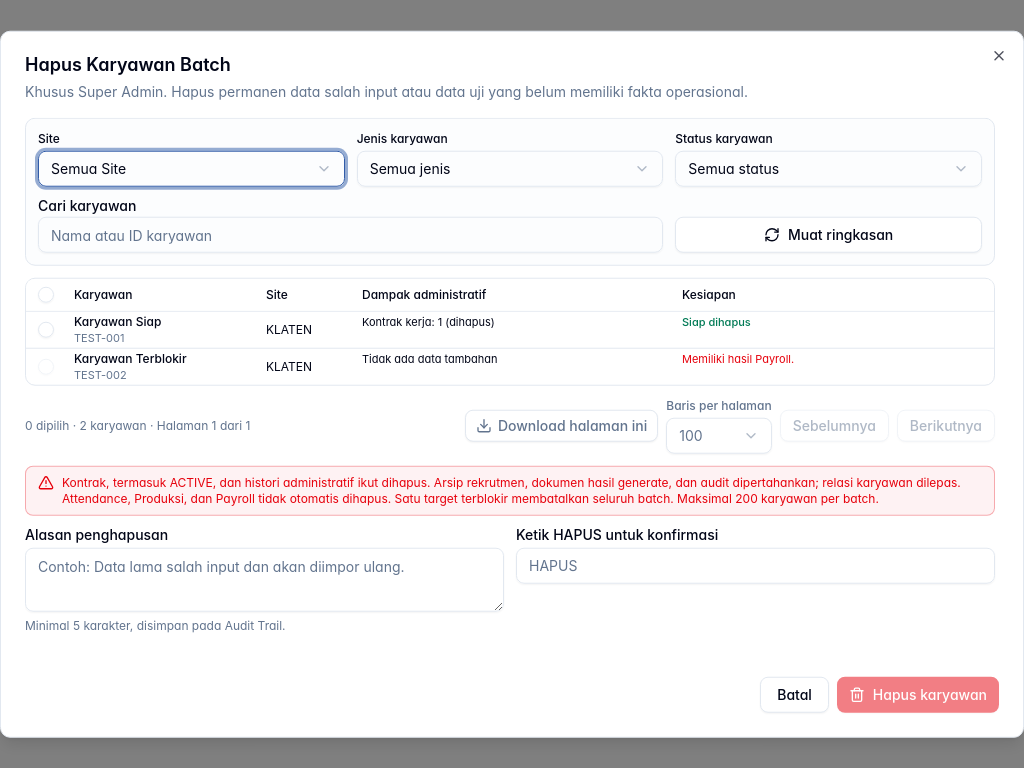
Test: EmployeeBatchDeleteDialog › hanya memilih karyawan siap, menampilkan blocker dan dampak administratif
Click the checkbox named "Pilih semua karyawan siap di halaman ini".
click(46, 295)  # box [38,287,54,303]
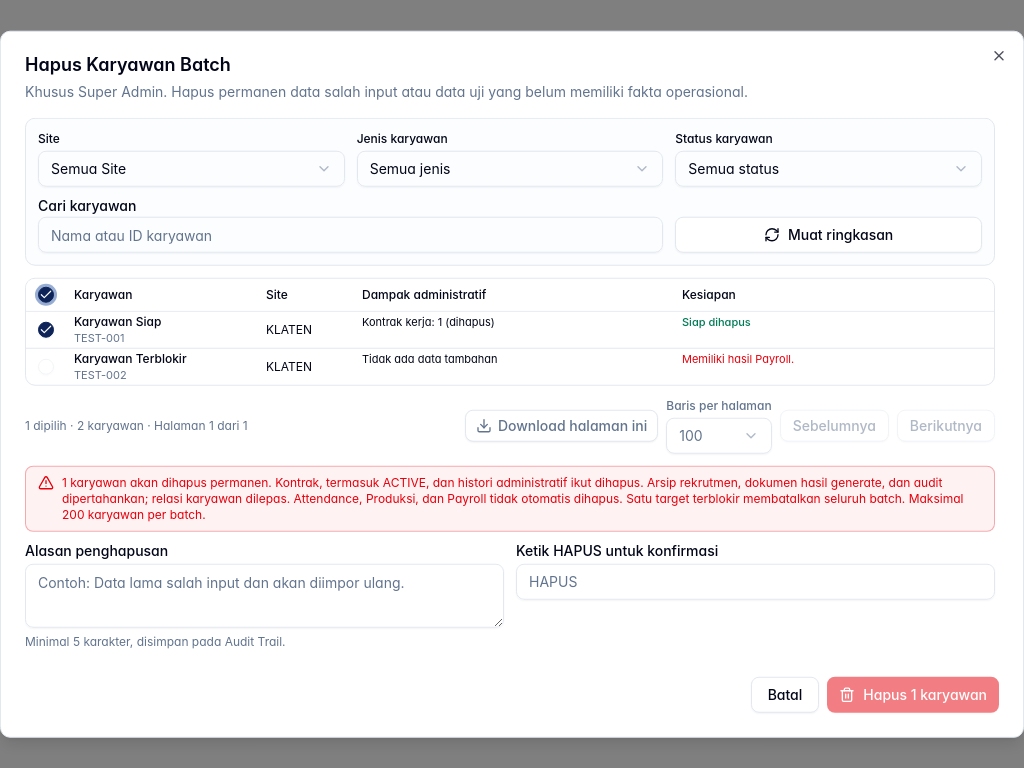
Check: the button "Hapus 1 karyawan" is disabled, box [827,676,999,712]
Check: the checkbox named "Pilih Karyawan Siap" is checked, box [38,322,54,338]
